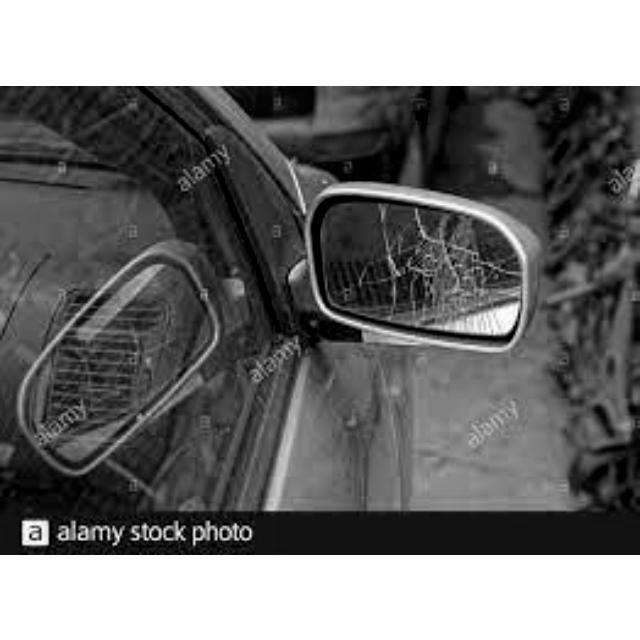Sidemirror-Damage: (293, 179, 547, 376)
